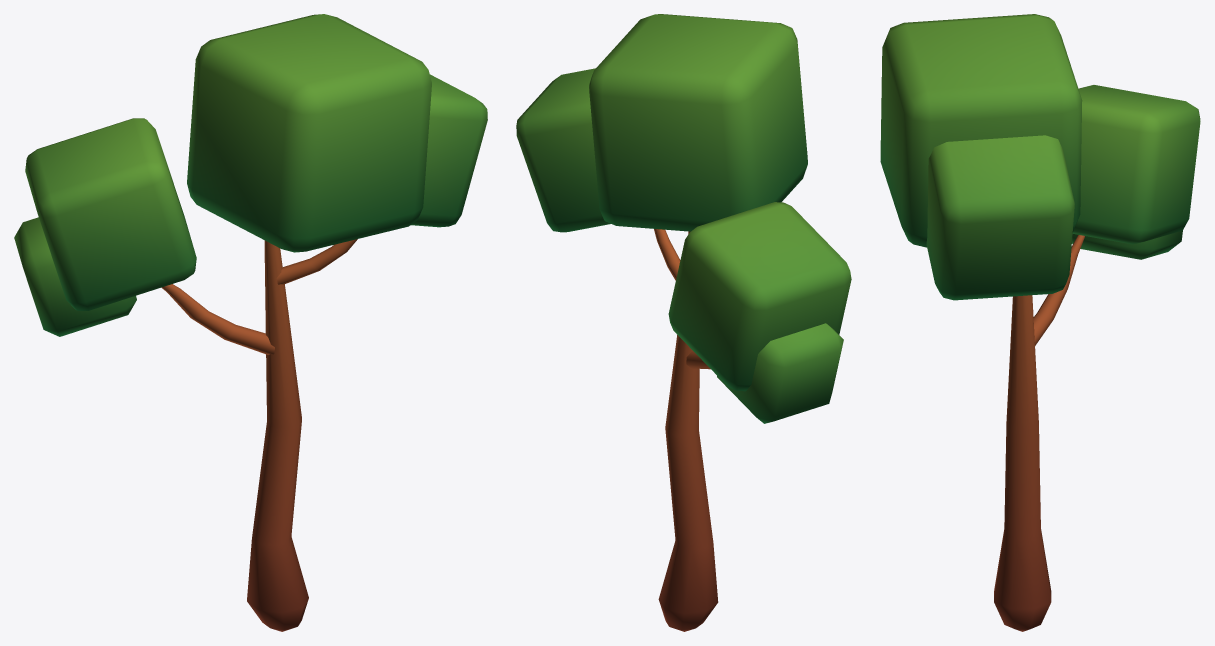
The model's file is Tree_2_C.glb.
3 renders of one model, left to right at view 1: azimuth 30°, elevation 25°; view 2: azimuth 150°, elevation 25°; view 3: azimuth 270°, elevation 25°, orthographic. The views are drawn at different scales.
Bounding box in the file's own units: 4.6 × 6.92 × 3.4.
